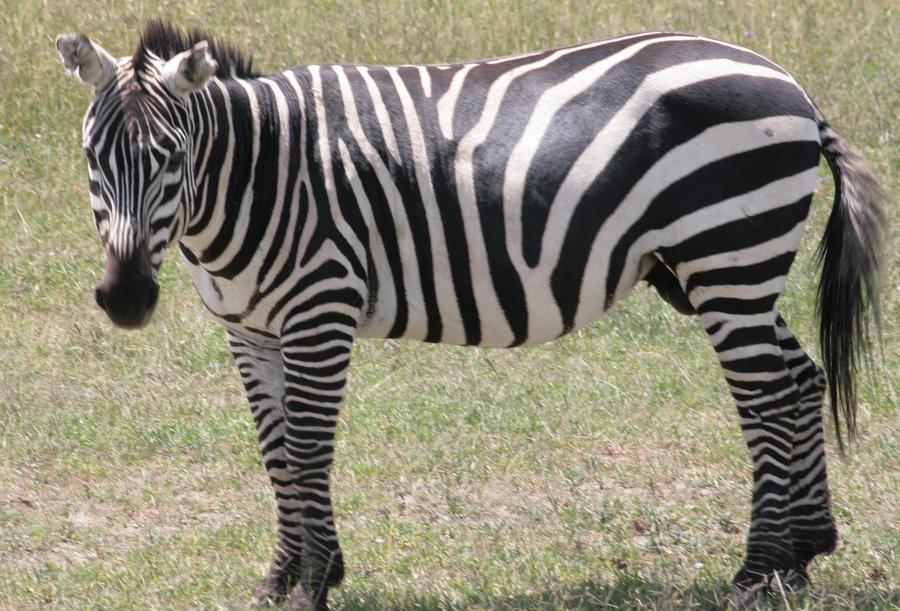zebra_plains: (213, 58, 813, 283)
